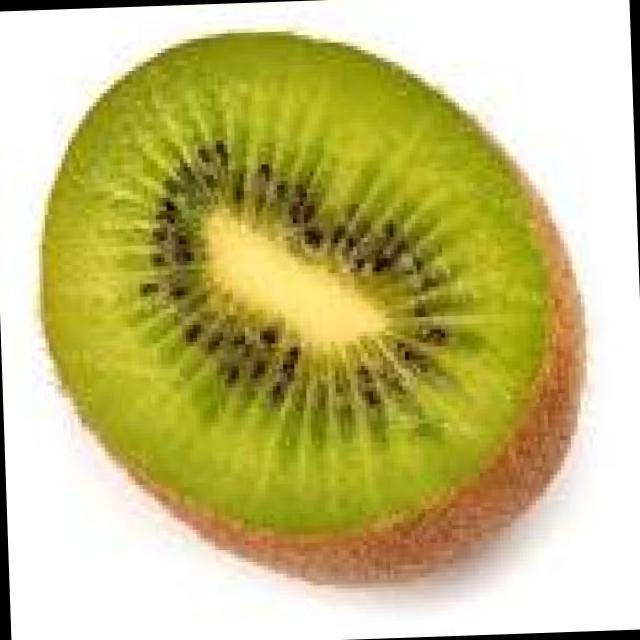Kiwi: (12, 16, 613, 616)
